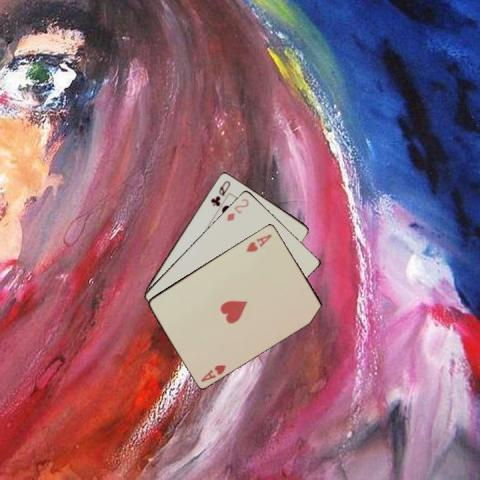2d: (224, 195, 251, 223)
Ah: (243, 231, 273, 253), (198, 361, 227, 383)
Qc: (207, 178, 232, 208)
